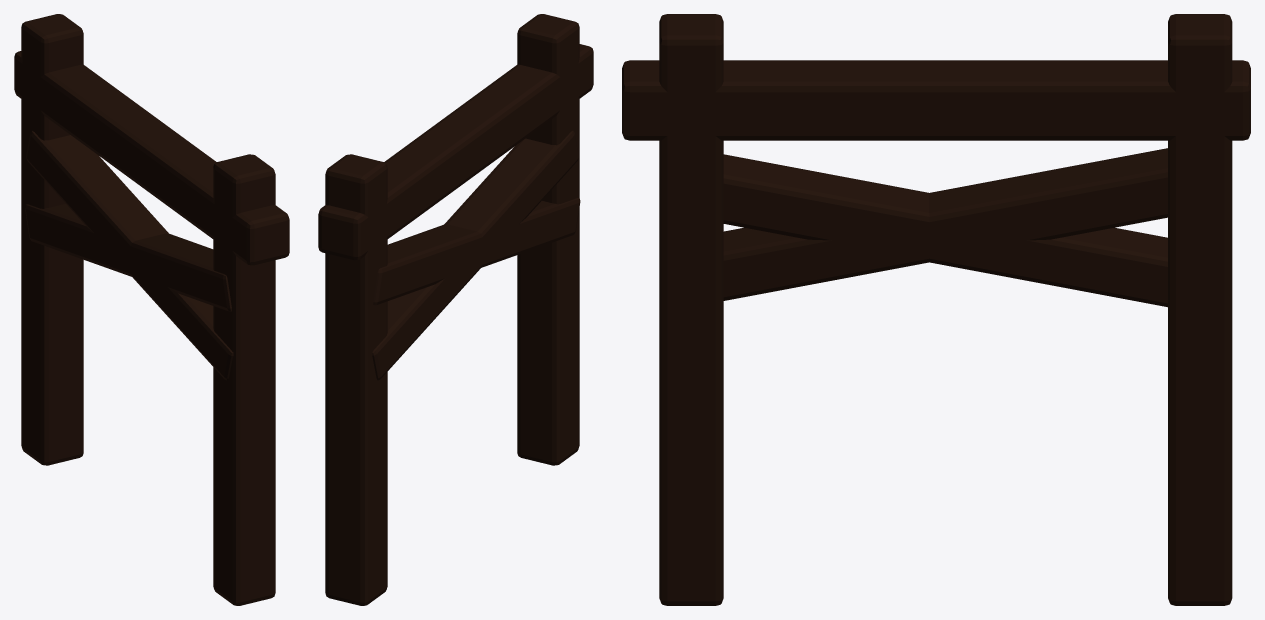
File: fence_a.fbx
The picture shows the model from 3 angles, left to right: view 1: azimuth 30°, elevation 25°; view 2: azimuth 150°, elevation 25°; view 3: azimuth 270°, elevation 25°; orthographic projection. The views are drawn at different scales.
Parts seen in each view (by area): view 1: log_a; view 2: log_a; view 3: log_a.
Boxes of the visible parts, <box> form: log_a: <box>14,14,289,605</box>; log_a: <box>318,14,593,605</box>; log_a: <box>622,14,1250,605</box>.
Size of the model in its own units: 2.58 by 23.69 by 23.69.
